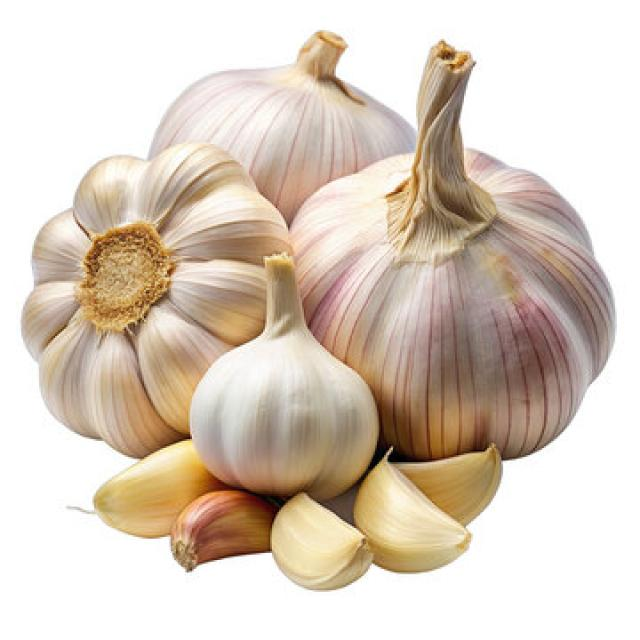Garlic: (288, 40, 618, 462), (20, 138, 294, 458), (146, 28, 418, 226), (186, 249, 378, 499), (66, 437, 222, 539), (352, 444, 471, 572), (268, 491, 374, 590), (389, 441, 503, 528), (169, 487, 277, 573)
